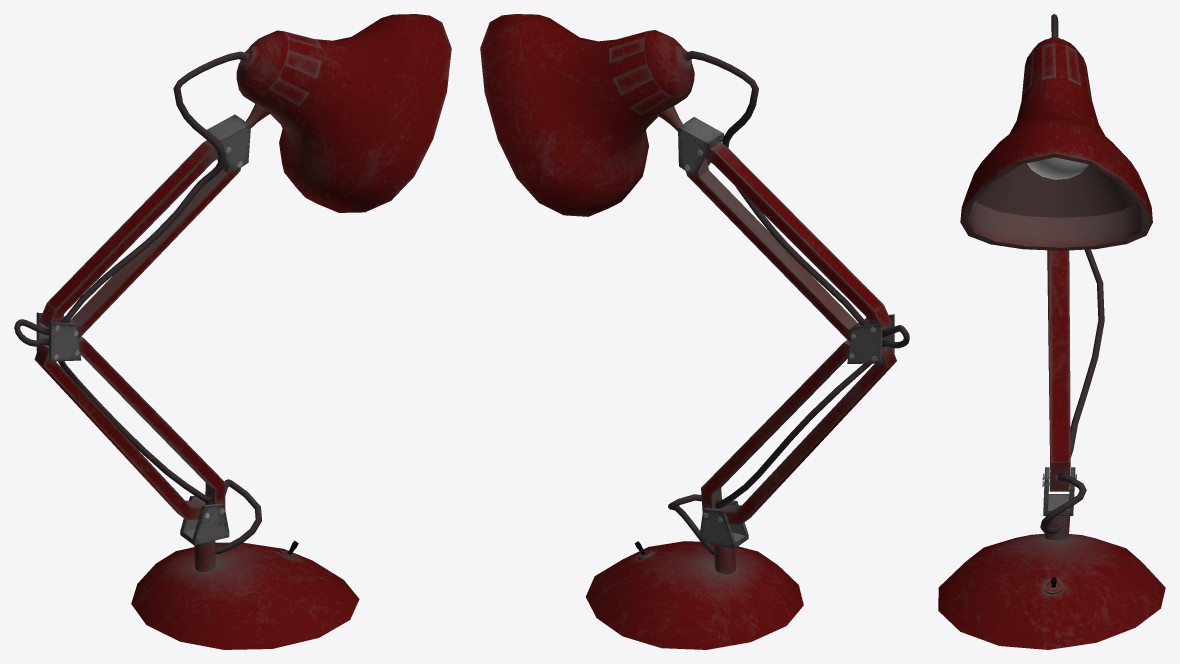
Rendered from lamp.fbx.
3 views of the same model, side by side, from view 1: azimuth 30°, elevation 25°; view 2: azimuth 150°, elevation 25°; view 3: azimuth 270°, elevation 25° (orthographic). The views are drawn at different scales.
Visible parts, largest first — view 1: lp-base; view 2: lp-base; view 3: lp-base.
Part boxes in pixels (left/top/right/bottom): lp-base: left=14, top=14, right=451, bottom=649; lp-base: left=480, top=14, right=909, bottom=649; lp-base: left=938, top=14, right=1165, bottom=649.
Bounding box in the file's own units: 303 × 383 × 137.
